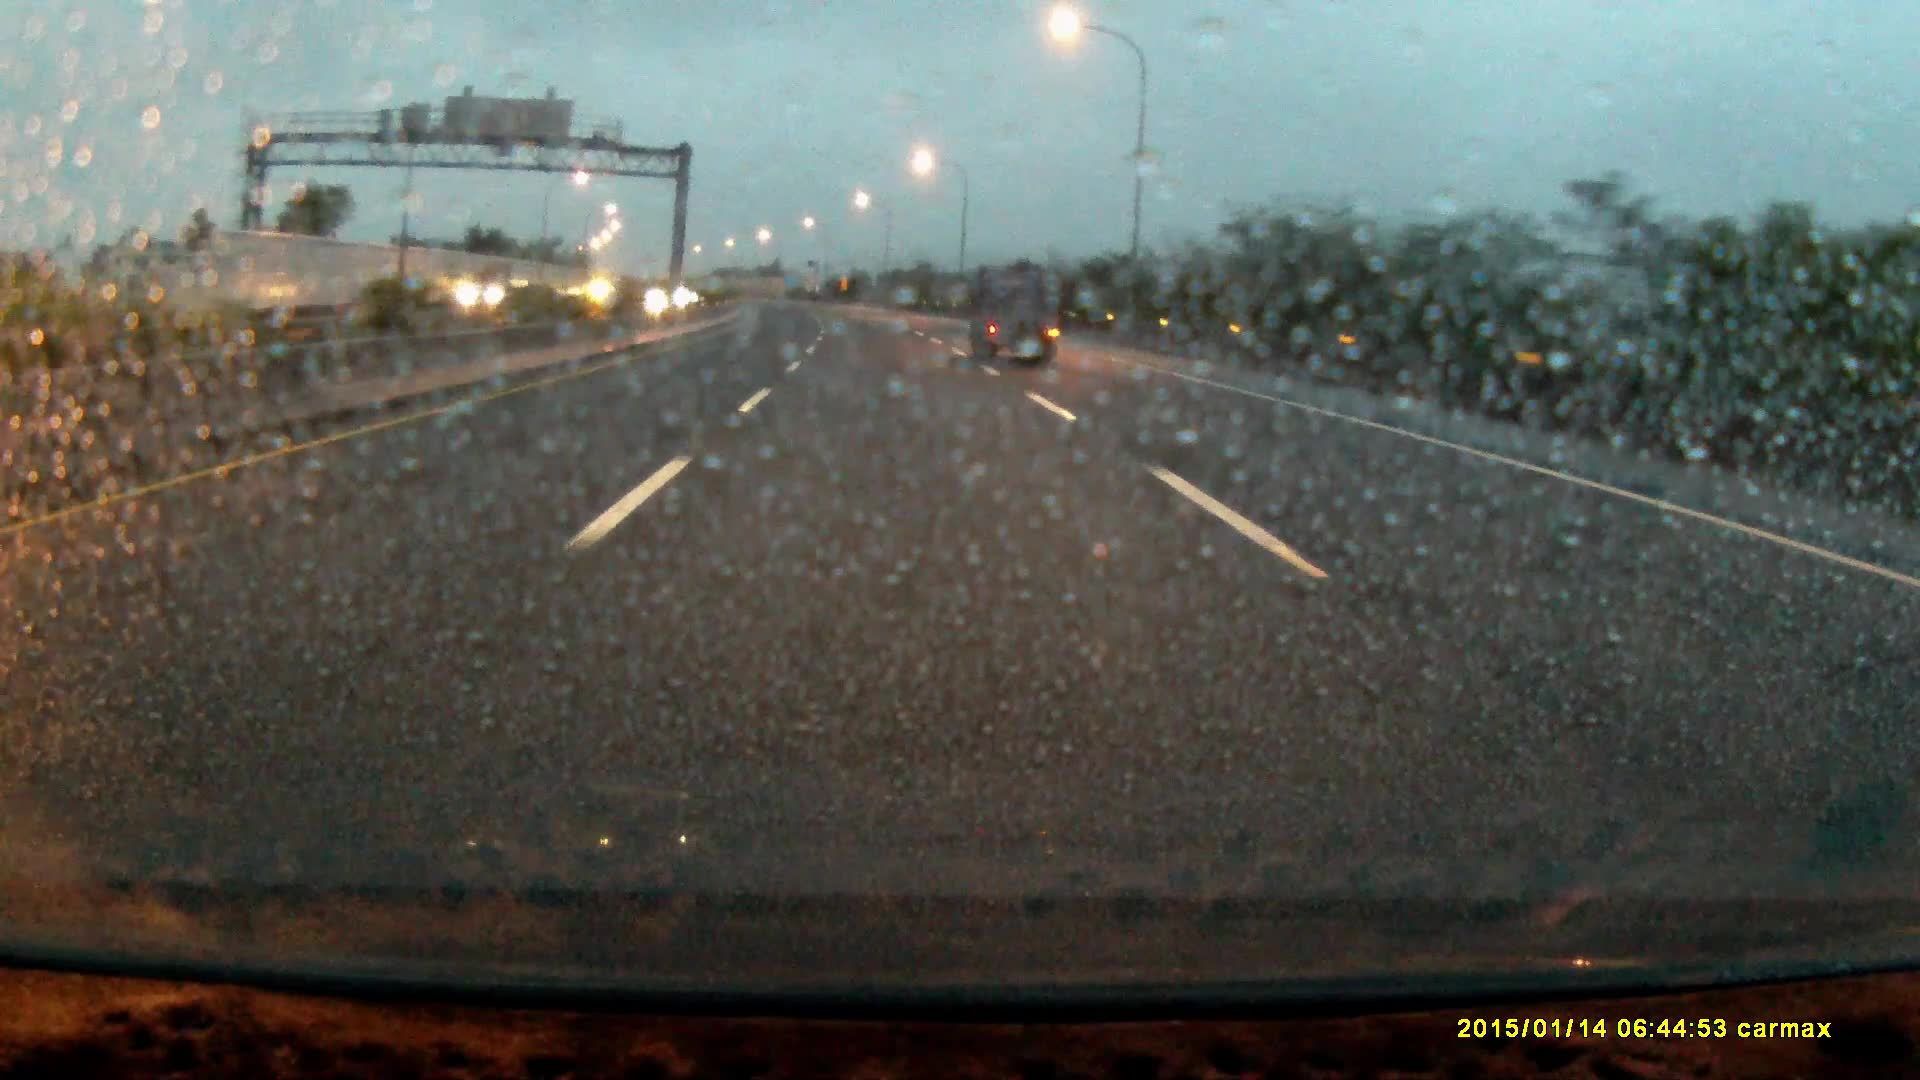vehicle: (973, 270, 1060, 364), (462, 260, 547, 315)
